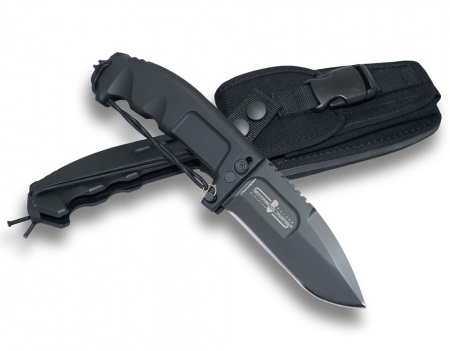knife: (213, 155, 375, 319)
